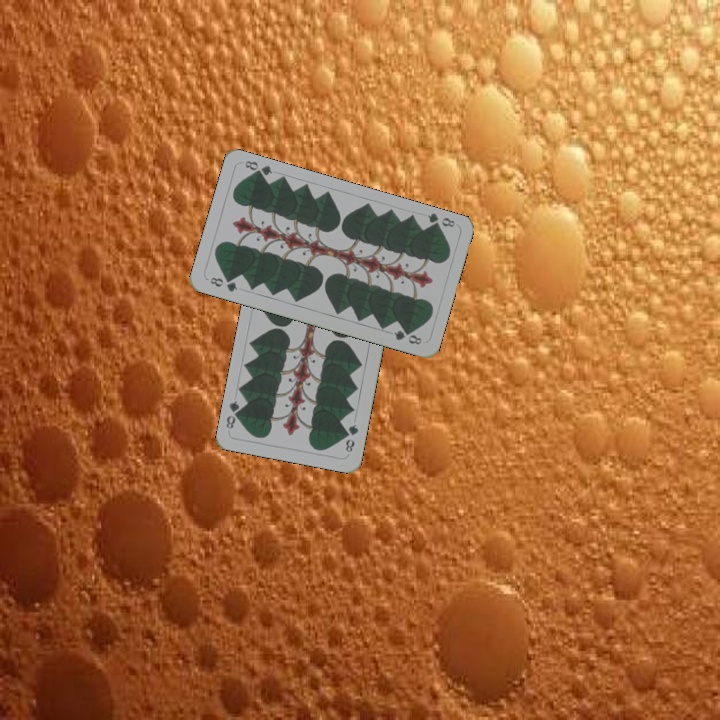G8: (423, 209, 457, 232), (206, 273, 240, 295), (341, 420, 361, 455)
